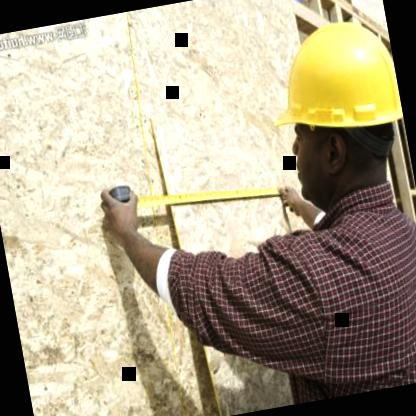helmet: (244, 0, 416, 231)
